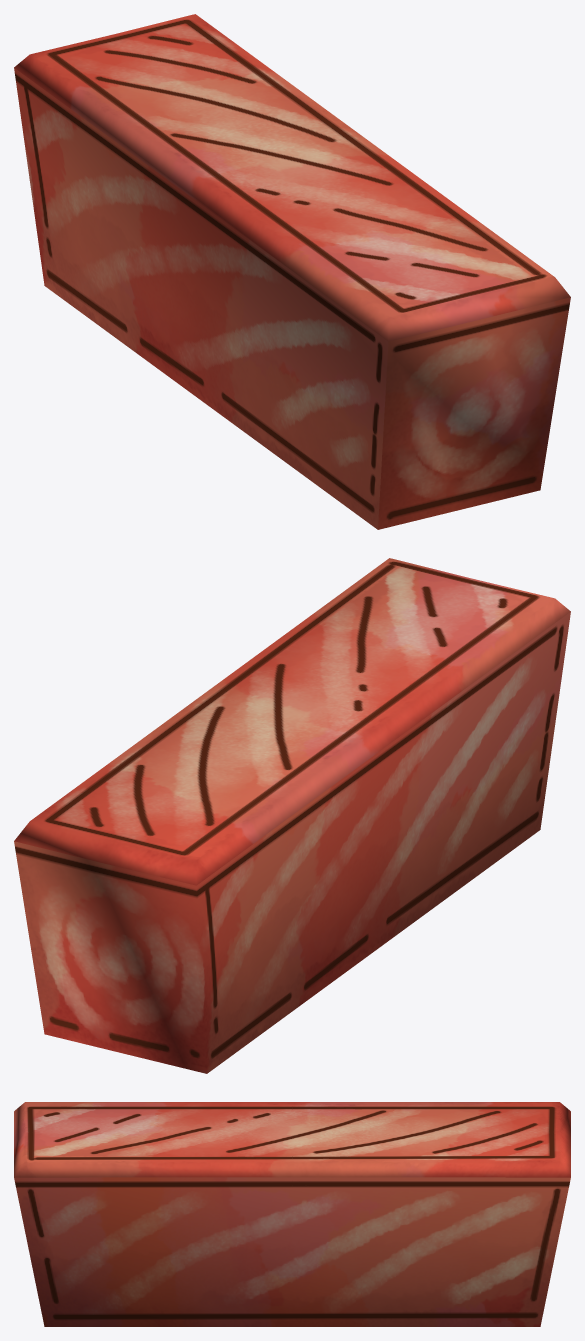
File: bottom middle slab.fbx
3 views of the same model, one above another, from view 1: azimuth 30°, elevation 25°; view 2: azimuth 150°, elevation 25°; view 3: azimuth 270°, elevation 25° (orthographic). The views are drawn at different scales.
Visible parts, largest first — view 1: bottommiddle; view 2: bottommiddle; view 3: bottommiddle.
Boxes of the visible parts, x1,y1,x2,y2 form: bottommiddle: (14, 14, 570, 529); bottommiddle: (14, 558, 570, 1073); bottommiddle: (14, 1102, 570, 1326).
Size of the model in its own units: 10.58 by 12.31 by 37.62.
